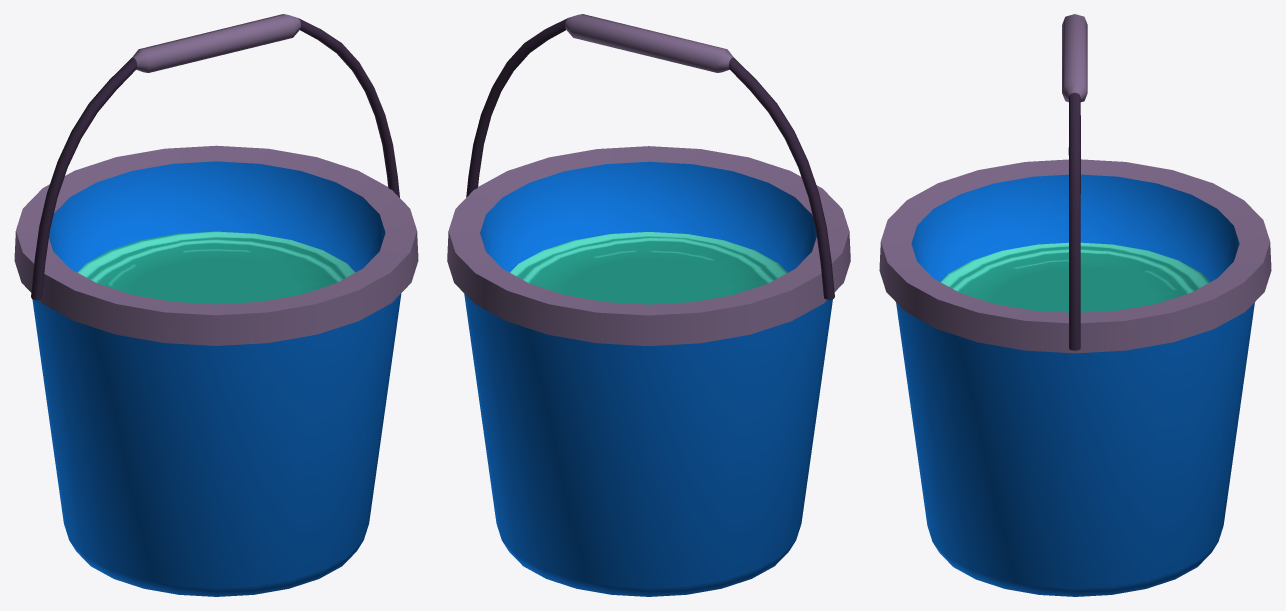
Rendered from Bucket_HP_.fbx.
3 views of the same model, side by side, from view 1: azimuth 30°, elevation 25°; view 2: azimuth 150°, elevation 25°; view 3: azimuth 270°, elevation 25° (orthographic). The views are drawn at different scales.
Visible parts, largest first — view 1: Bucket001; view 2: Bucket001; view 3: Bucket001.
Part boxes in pixels (bbox=[...]): Bucket001: bbox=[14, 14, 418, 596]; Bucket001: bbox=[447, 14, 850, 596]; Bucket001: bbox=[879, 14, 1271, 596].
Size of the model in its own units: 0.4943 by 0.656 by 0.4697.
1 material, 1 textured.
